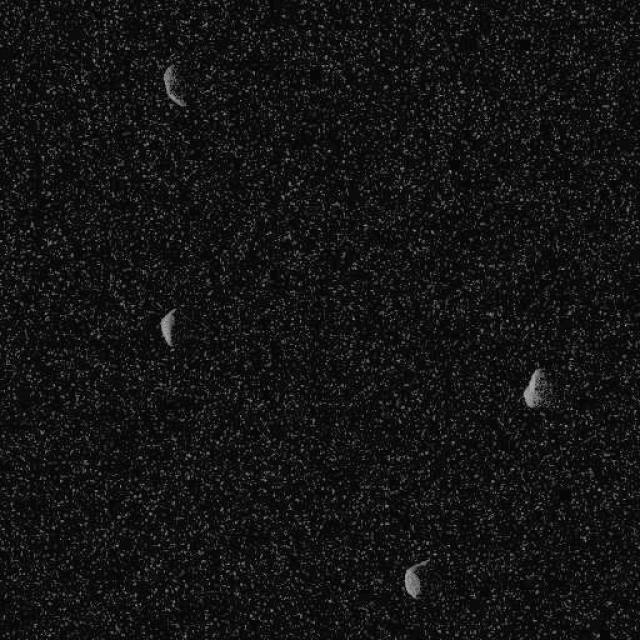D2: (521, 366, 549, 409), (162, 62, 188, 108), (402, 558, 430, 598), (158, 306, 178, 348)
